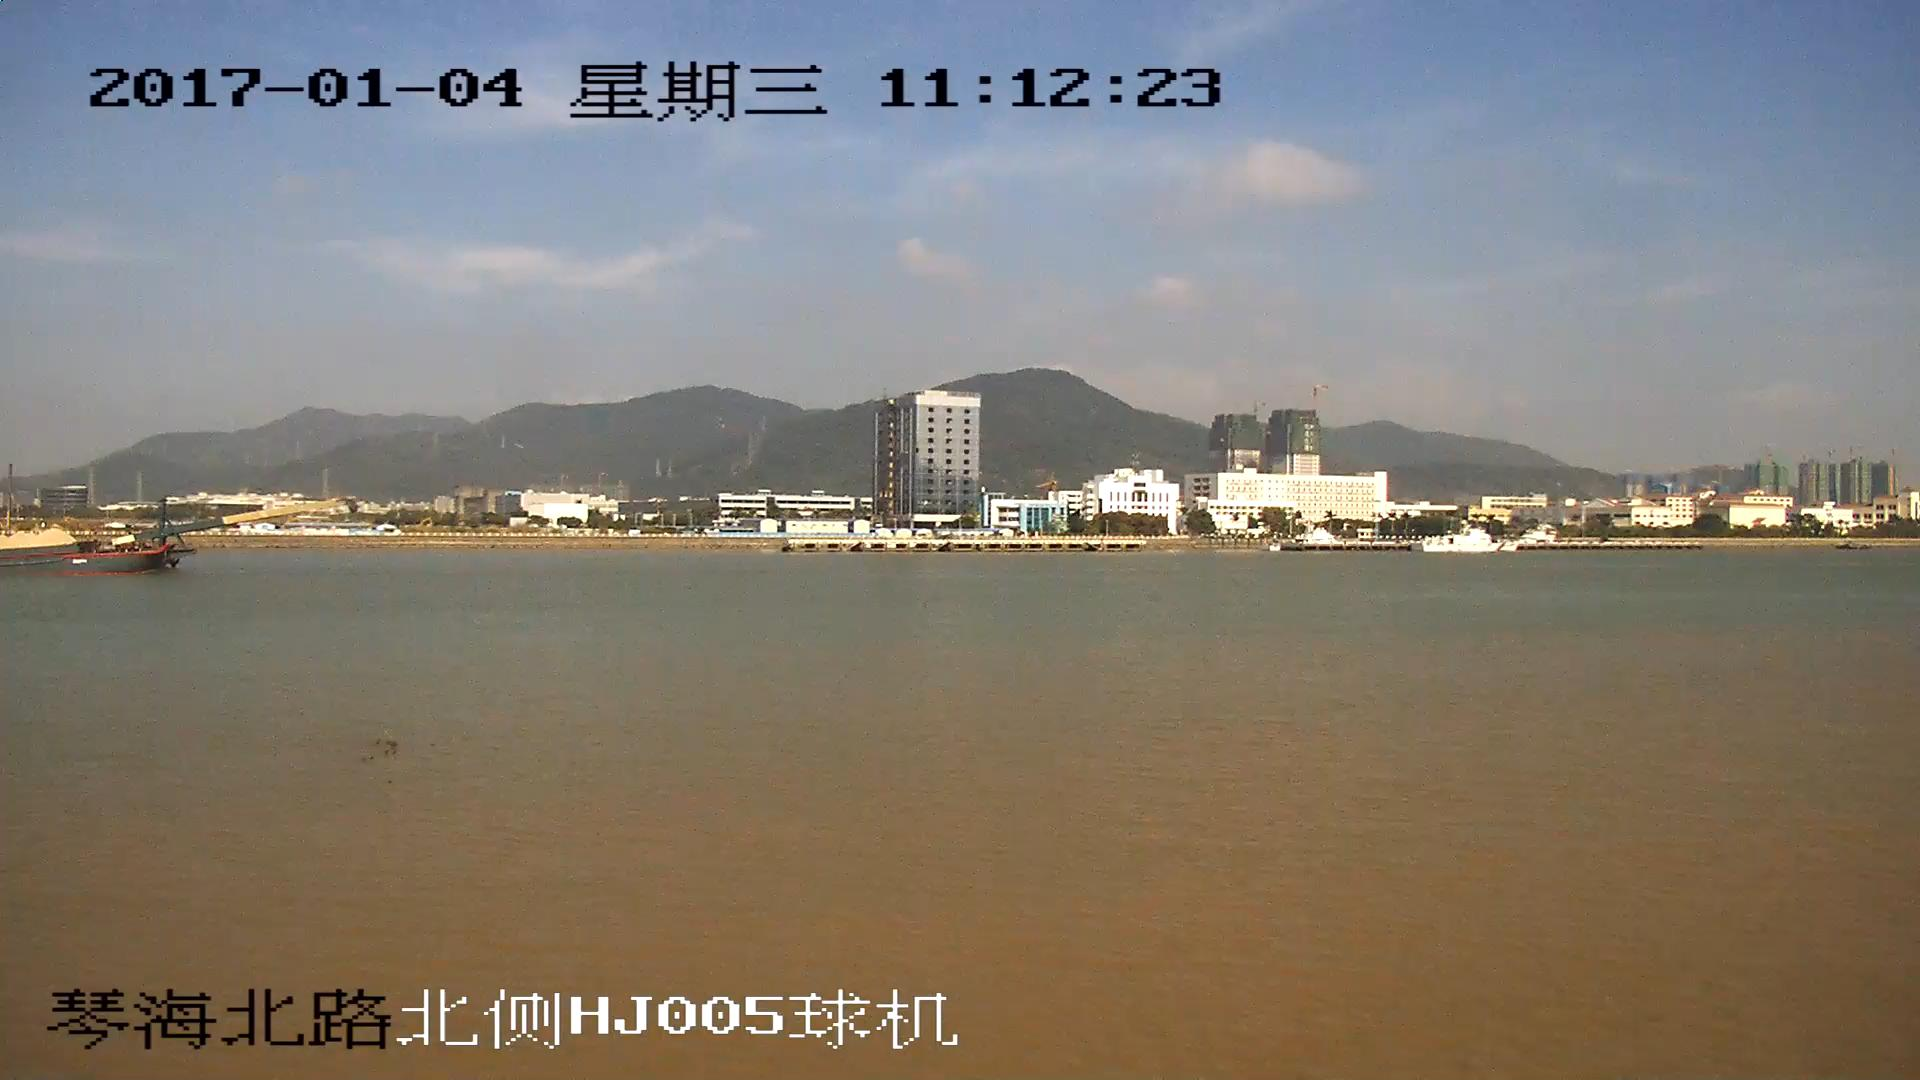ore carrier: (1, 506, 318, 575)
